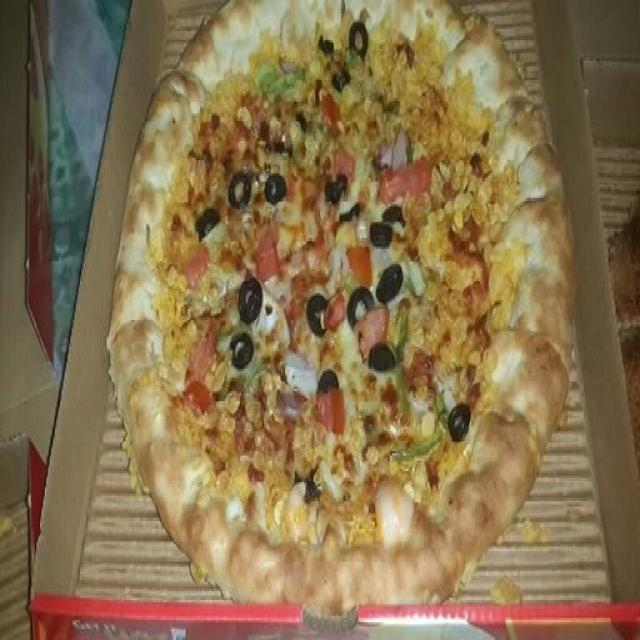Olives: (377, 262, 405, 302), (371, 209, 402, 243), (240, 279, 260, 322), (231, 330, 253, 365), (308, 295, 325, 338), (230, 174, 250, 208), (352, 292, 373, 324), (449, 410, 470, 438), (350, 24, 369, 54), (265, 182, 285, 208), (327, 176, 345, 199), (369, 348, 396, 363), (202, 209, 216, 237), (339, 204, 358, 222), (334, 75, 350, 90), (320, 38, 335, 54)
Pizza: (108, 0, 575, 613)
Tomato: (384, 160, 433, 196), (358, 308, 388, 356), (318, 390, 344, 436), (348, 245, 374, 289), (184, 248, 208, 284), (258, 245, 280, 281), (326, 295, 347, 331), (185, 383, 210, 412), (332, 148, 356, 178), (321, 95, 342, 127)
